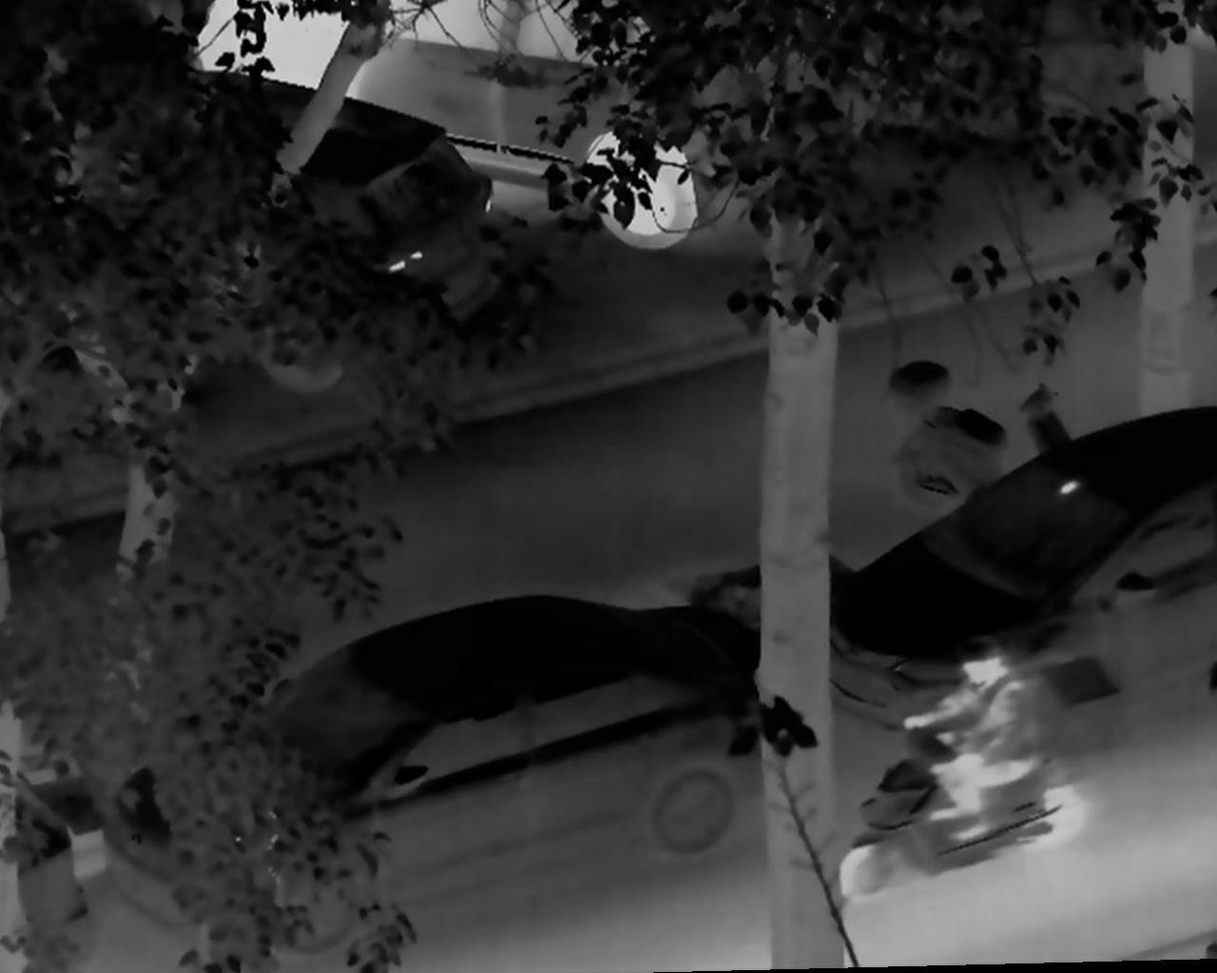person: (904, 636, 1039, 849)
